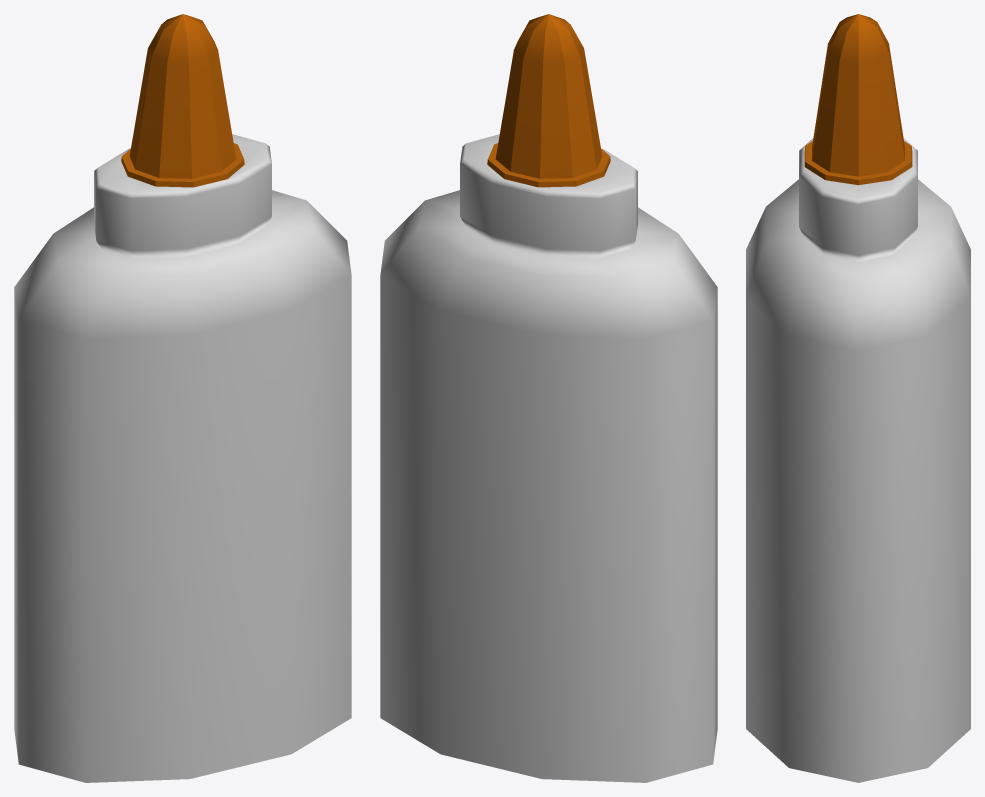
Rendered from ca-glue.glb.
3 views of the same model, side by side, from view 1: azimuth 30°, elevation 25°; view 2: azimuth 150°, elevation 25°; view 3: azimuth 270°, elevation 25° (orthographic). The views are drawn at different scales.
Parts seen in each view (by area): view 1: Glue_lambert2_0, Glue_lambert3_0; view 2: Glue_lambert2_0, Glue_lambert3_0; view 3: Glue_lambert2_0, Glue_lambert3_0.
Part boxes in pixels (<box>): Glue_lambert2_0: <box>14,134,351,782</box>; Glue_lambert3_0: <box>121,14,244,187</box>; Glue_lambert2_0: <box>380,134,717,782</box>; Glue_lambert3_0: <box>487,14,610,187</box>; Glue_lambert2_0: <box>746,138,970,782</box>; Glue_lambert3_0: <box>804,14,912,185</box>.
Bounding box in the file's own units: 0.0387 × 0.08 × 0.0236.
